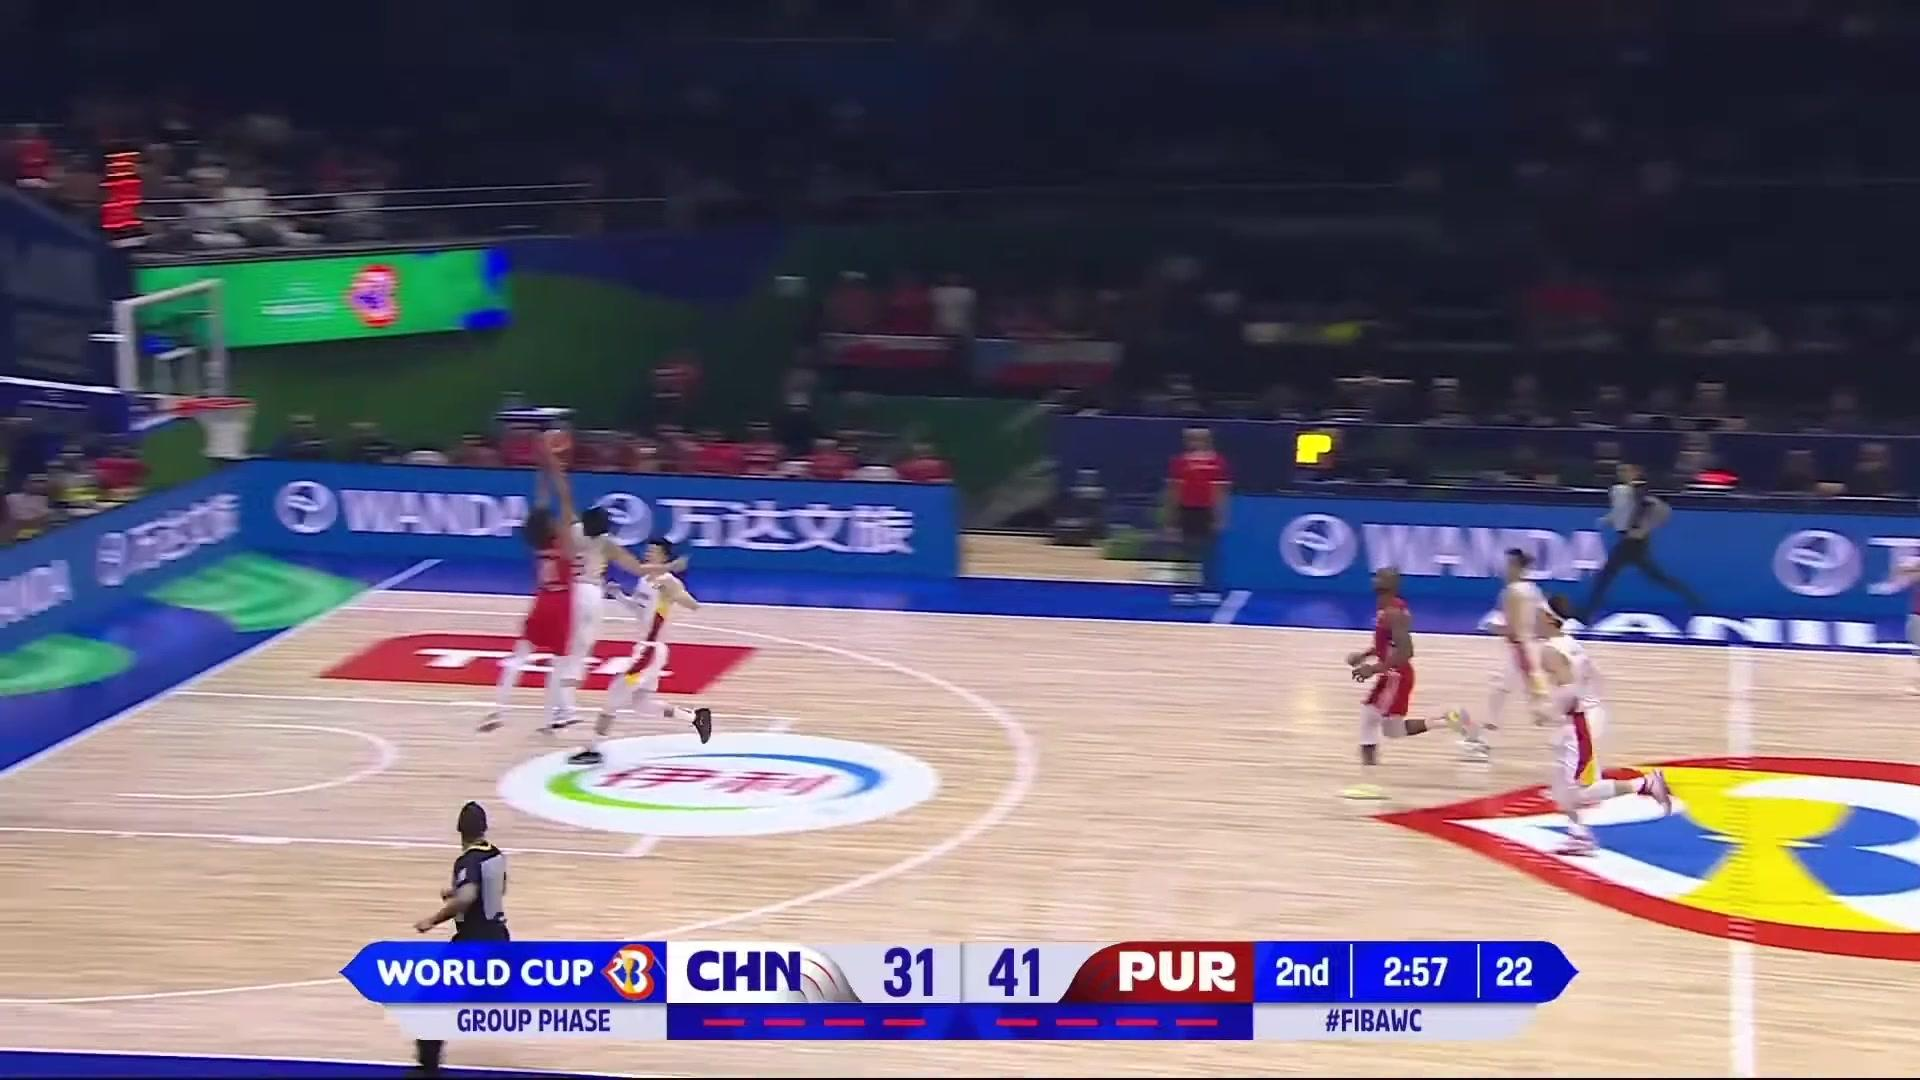no_foul: (462, 473, 632, 748)
